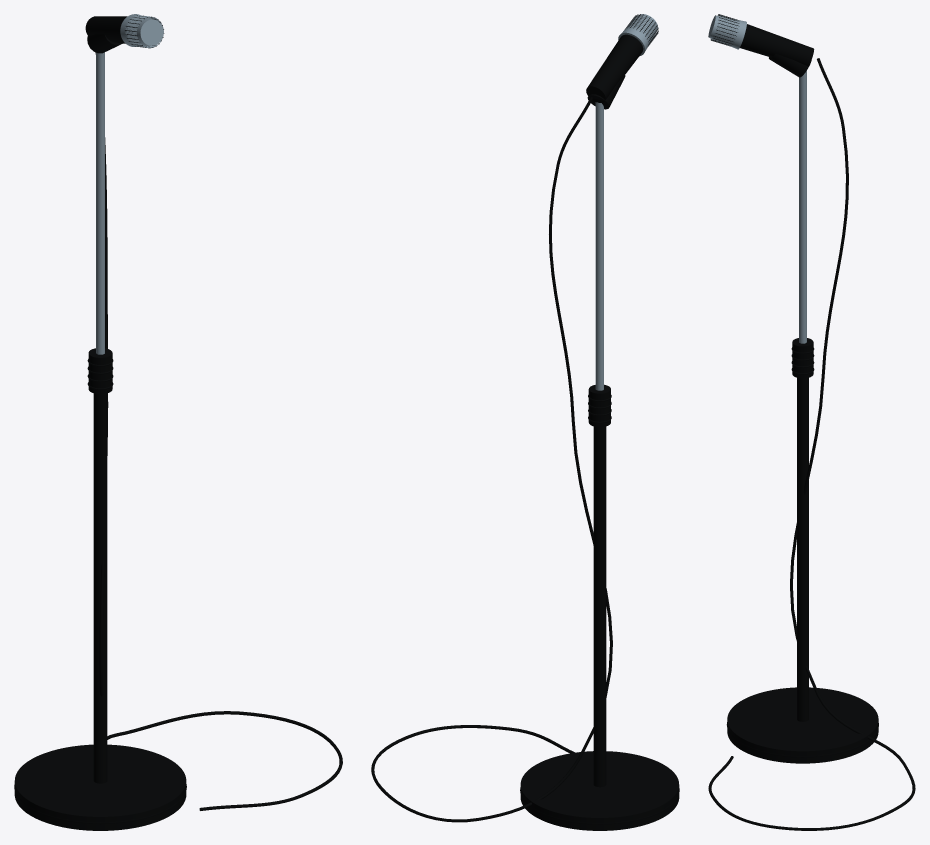
Rendered from MicStand.obj.
3 views of the same model, side by side, from view 1: azimuth 30°, elevation 25°; view 2: azimuth 150°, elevation 25°; view 3: azimuth 270°, elevation 25° (orthographic). The views are drawn at different scales.
Parts seen in each view (by area): view 1: Weighted_base.001; view 2: Weighted_base.001; view 3: Weighted_base.001.
Part boxes in pixels (x1,y1,x2,y2): Weighted_base.001: (14,14,342,830); Weighted_base.001: (371,14,679,830); Weighted_base.001: (708,14,915,830).
Bounding box in the file's own units: 0.6131 × 1.58 × 0.4104.
